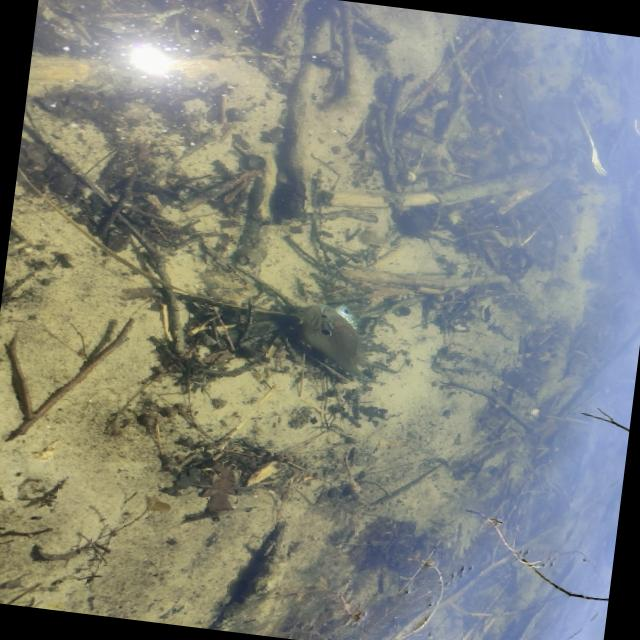Gunes Levregi: (279, 297, 383, 382)
